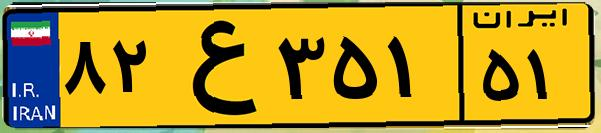1: (385, 28, 445, 110), (525, 38, 570, 115)
2: (110, 28, 158, 98)
3: (270, 28, 330, 110)
5: (330, 28, 385, 110), (475, 38, 525, 113)
8: (57, 26, 110, 100)
ع: (158, 12, 270, 120)
